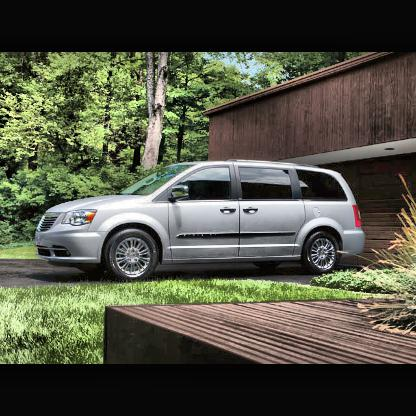Chrysler Town and Country Minivan 2012: (36, 158, 368, 284)
